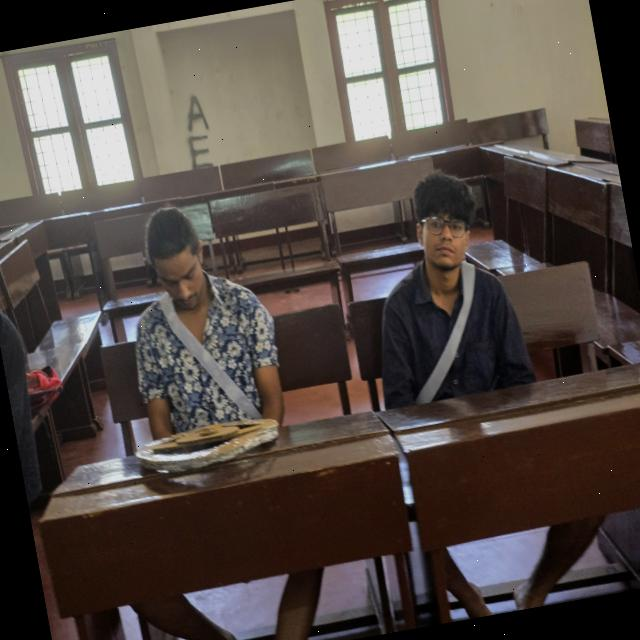seatbelt: (156, 276, 266, 446), (386, 253, 498, 410)
